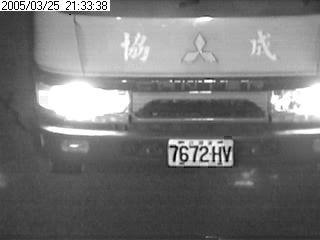plate: (166, 137, 234, 169)
